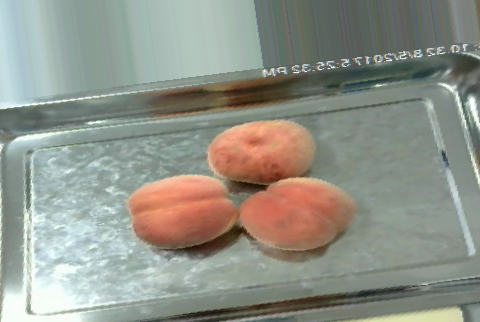Peach: (239, 179, 355, 249), (127, 174, 236, 248), (202, 119, 313, 181)
